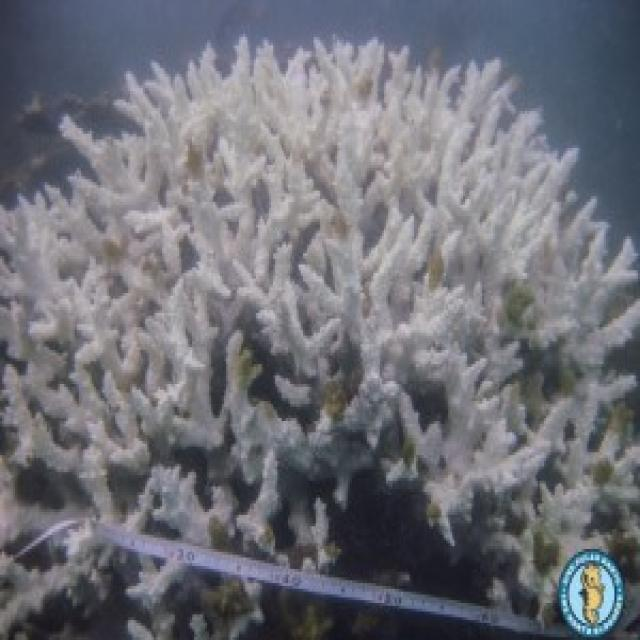Bleached: (1, 41, 637, 544)
